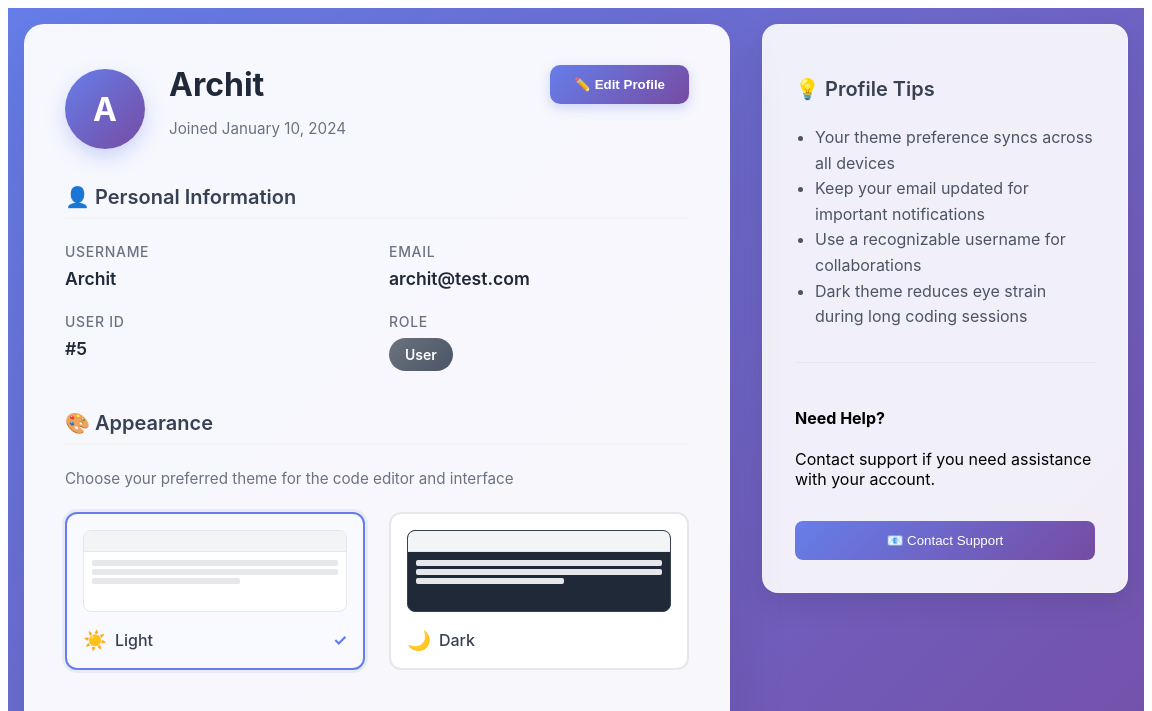
Test case: Profile Page › clicking Edit Profile enables editing mode
This screenshot has width=1152, height=711.
Click the button "✏️ Edit Profile". click: (620, 84)
box: [550,65,689,104]
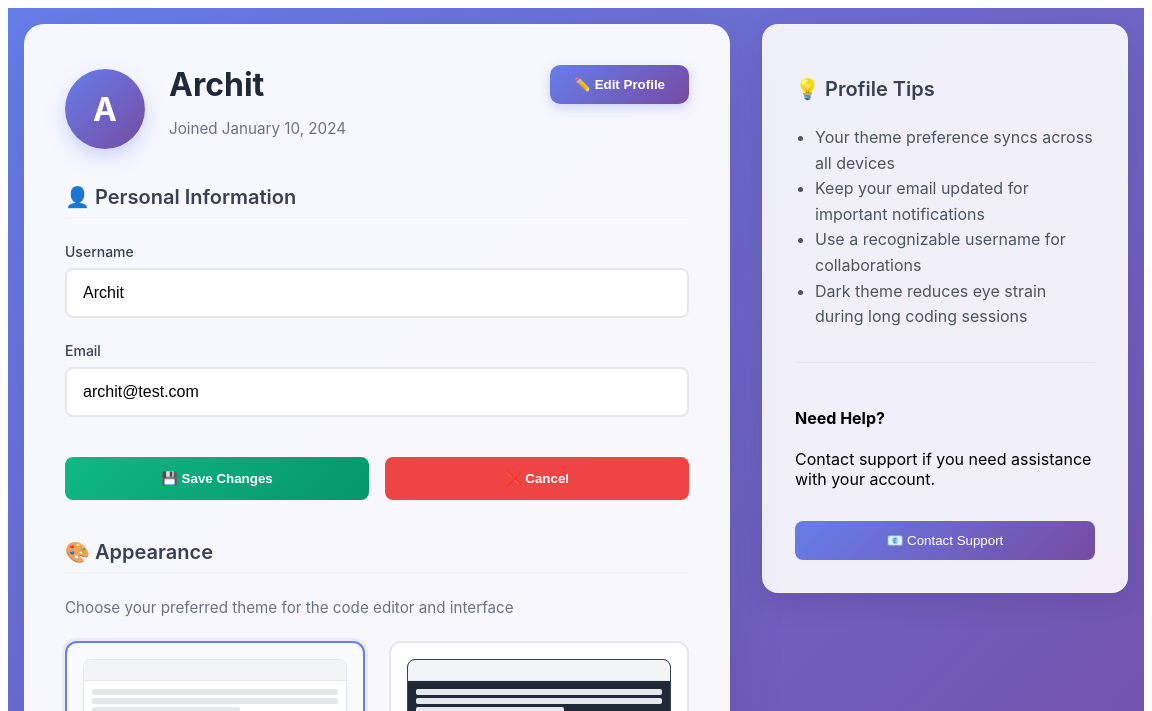
Now the 1st field with placeholder "Enter username" is shown, box [65,268,689,318]
Now the 2nd field with placeholder "Enter email" is shown, box [65,367,689,417]
